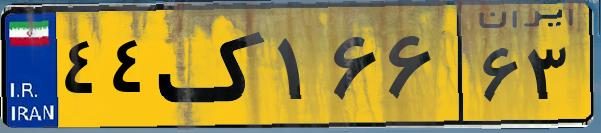1: (270, 28, 330, 110)
3: (525, 38, 570, 115)
4: (57, 26, 110, 100), (110, 28, 158, 98)
6: (385, 28, 445, 110), (330, 28, 385, 110), (475, 38, 525, 113)
ک: (158, 12, 270, 120)
